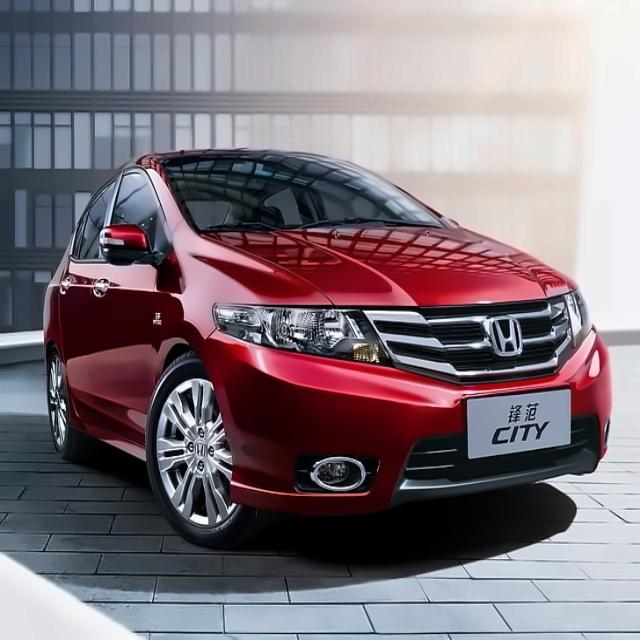Car hood: (193, 222, 585, 311)
Driver-s door - -F-R-: (91, 158, 156, 450)
Fender - -F-R-: (156, 213, 221, 398)
Front bumper: (200, 332, 618, 519)
Headlight - -L-: (559, 280, 605, 359)
Headlight - -R-: (210, 301, 394, 375)
Passenger-s door - -R-R-: (57, 165, 110, 445)
Side bumper - -R-: (61, 401, 150, 470)
Side mirror - -R-: (96, 219, 164, 274)
